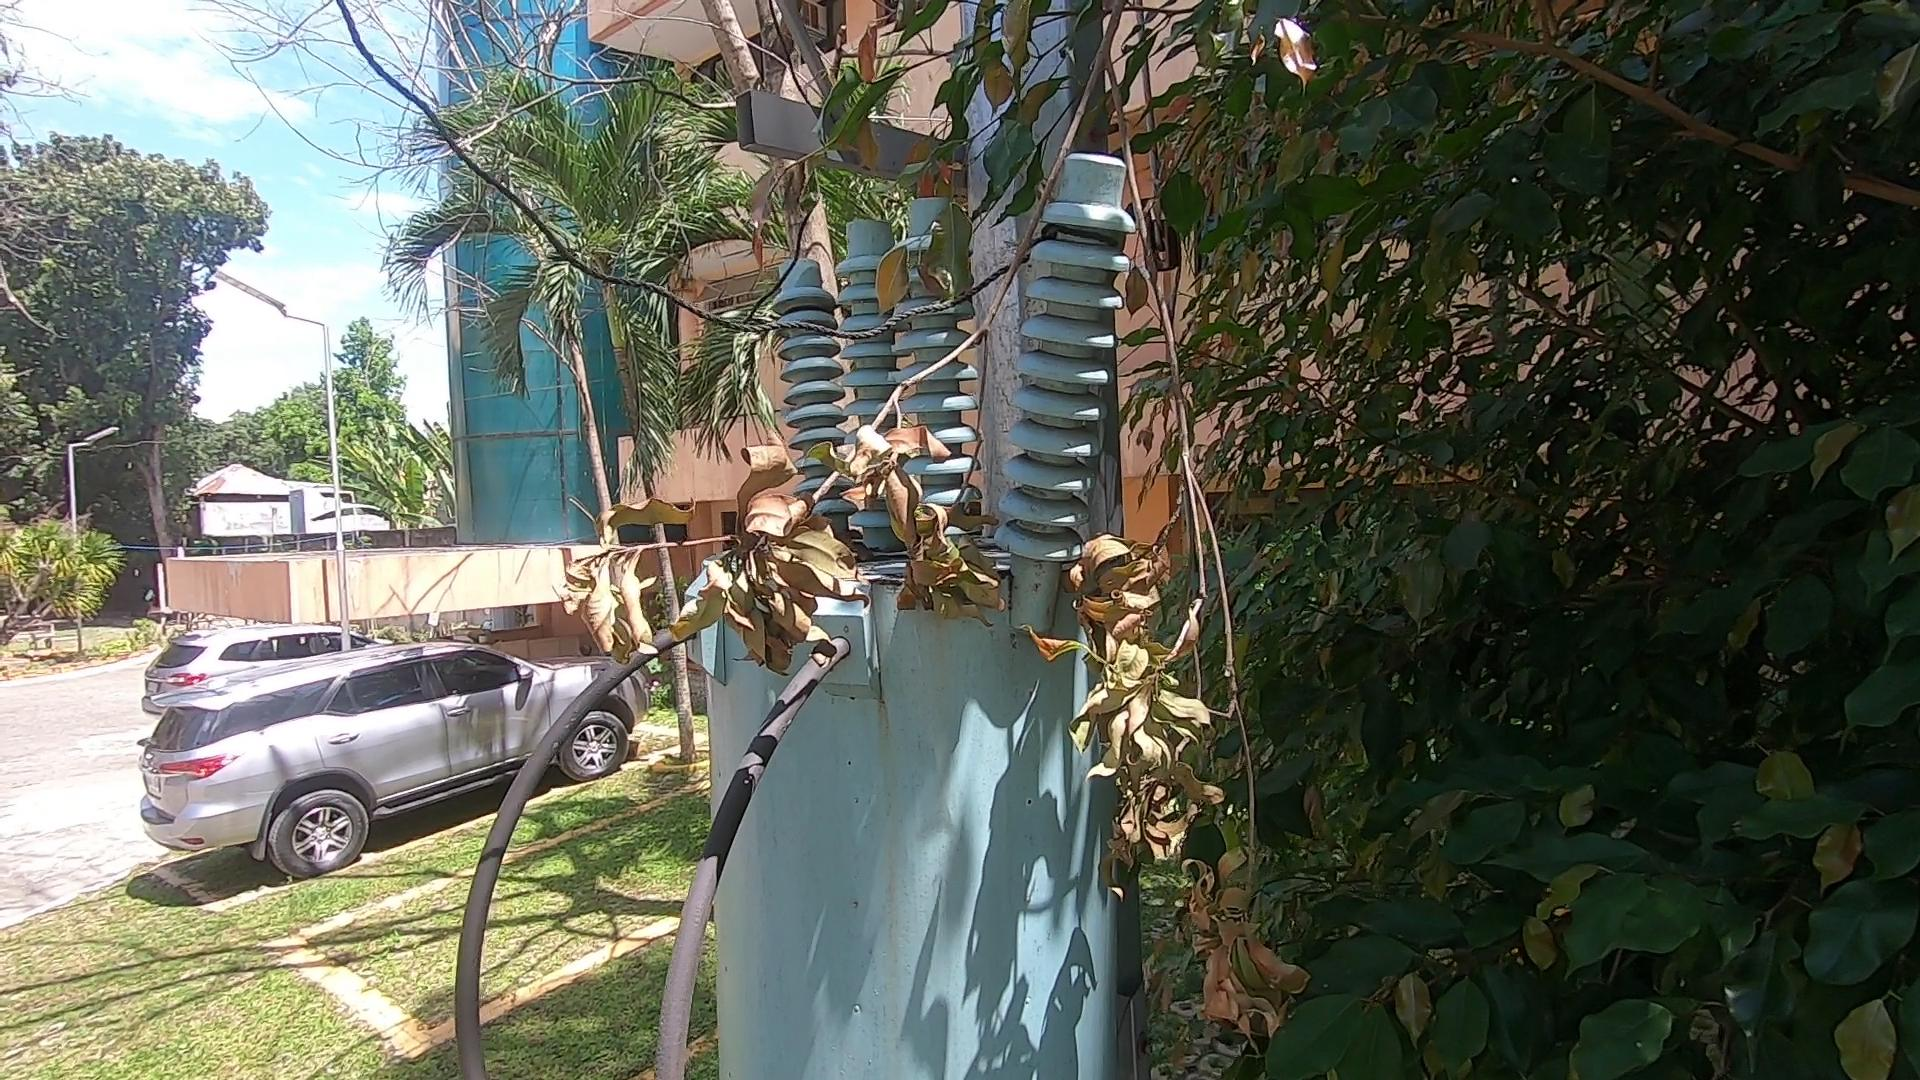branch with leaves: (533, 1, 1331, 1065)
leaf: (836, 520, 882, 560)
